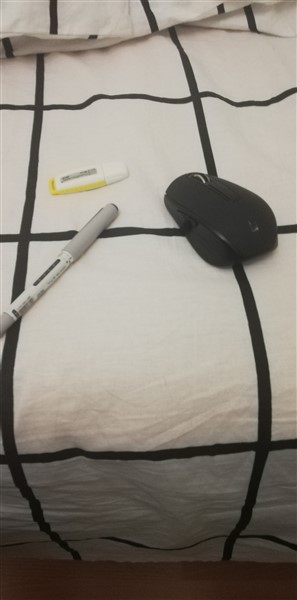flash disk: (43, 162, 138, 201)
mouse: (161, 159, 284, 272)
pilot kalem: (1, 201, 129, 331)
